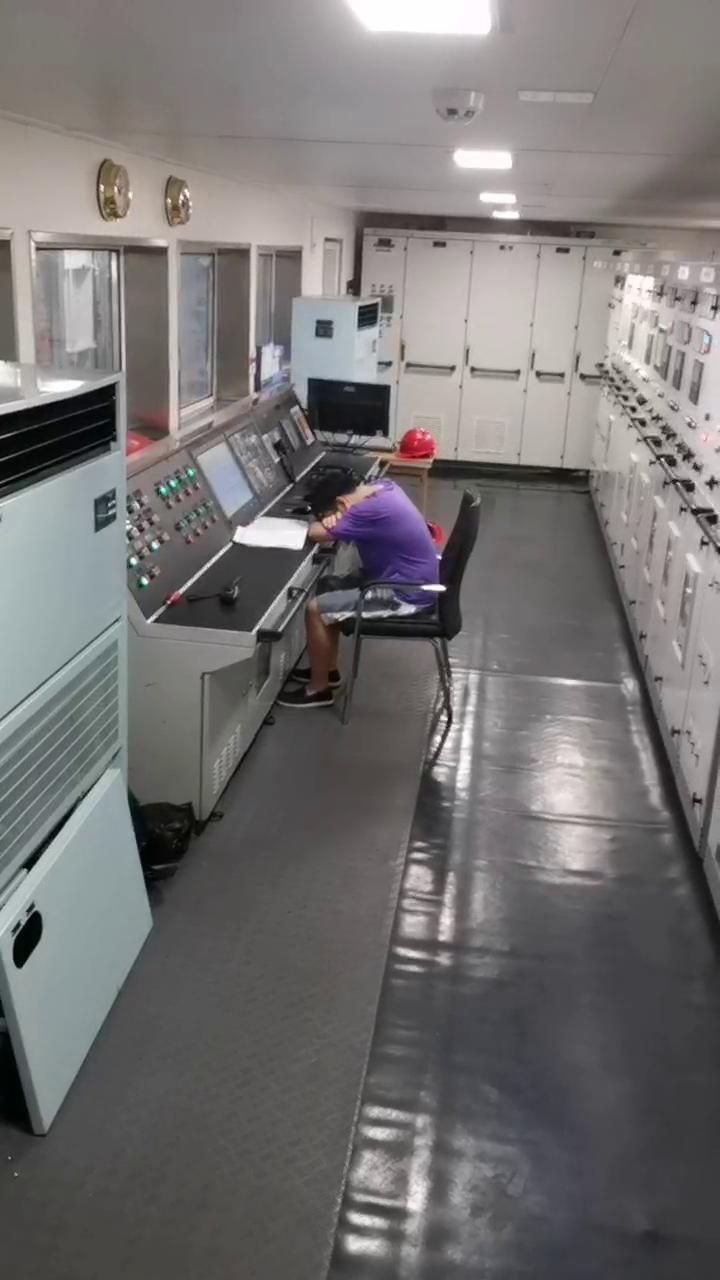sleep: (298, 466, 446, 624)
